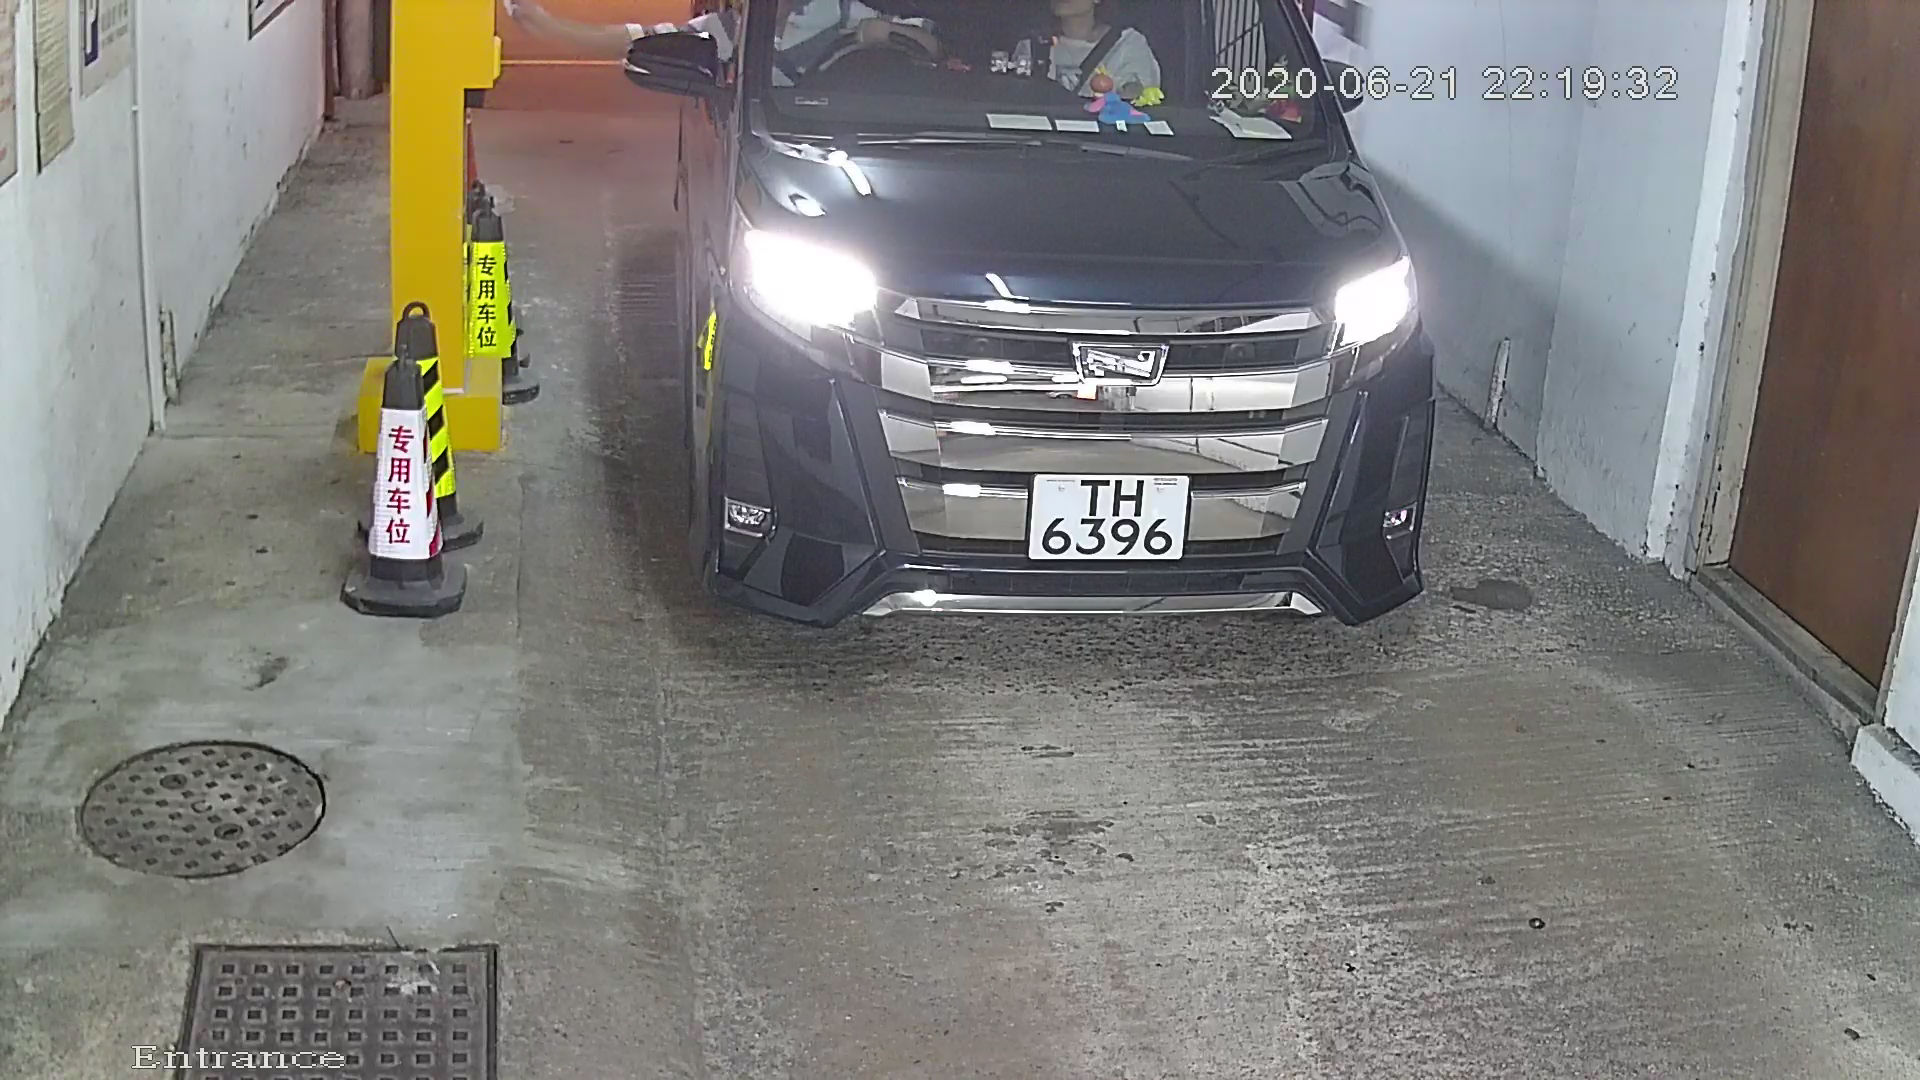privatecar: (575, 3, 1519, 732)
